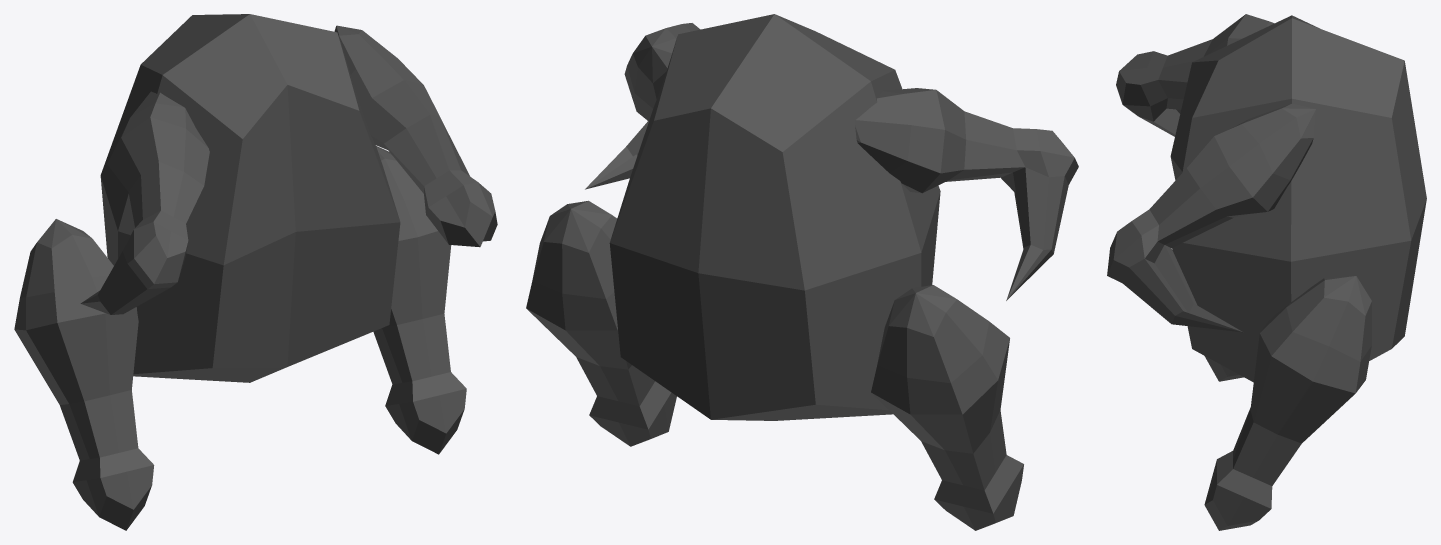
File: Burnt Chicken.fbx
3 renders of one model, left to right at view 1: azimuth 30°, elevation 25°; view 2: azimuth 150°, elevation 25°; view 3: azimuth 270°, elevation 25°, orthographic. The views are drawn at different scales.
Parts seen in each view (by area): view 1: Burnt Chicken; view 2: Burnt Chicken; view 3: Burnt Chicken.
Part boxes in pixels (x1,y1,x2,y2): Burnt Chicken: (14, 14, 497, 530); Burnt Chicken: (526, 14, 1078, 530); Burnt Chicken: (1107, 14, 1426, 530).
Bounding box in the file's own units: 25.32 × 26.12 × 17.19.
